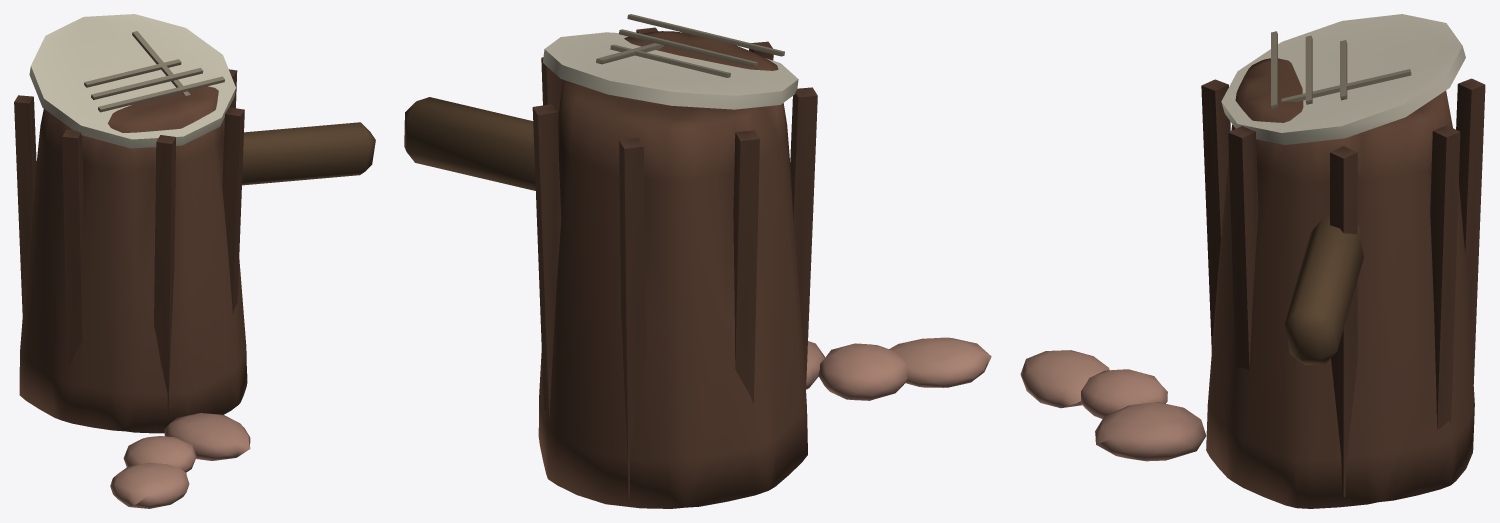
The model's file is chart_post_b.glb.
The picture shows the model from 3 angles, left to right: view 1: azimuth 30°, elevation 25°; view 2: azimuth 150°, elevation 25°; view 3: azimuth 270°, elevation 25°; orthographic projection. The views are drawn at different scales.
Visible parts, largest first — view 1: Surface; view 2: Surface; view 3: Surface.
Boxes of the visible parts, x1,y1,x2,y2 form: Surface: (14, 14, 375, 508); Surface: (404, 14, 991, 508); Surface: (1020, 14, 1485, 508).
Size of the model in its own units: 1.45 by 1.32 by 1.34.
